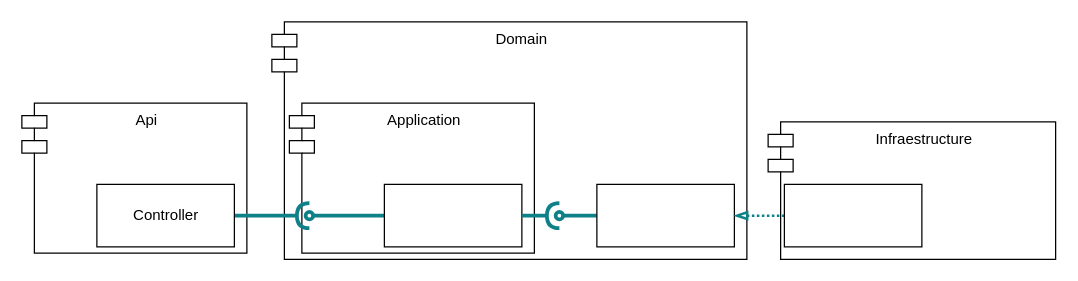
This 1078x281 diagram has some shape labels left out. Here are the shapes that lost their labels. From the top down, the centre of each, then its label:
pixel 452 215: Handler
pixel 665 215: «interface» Service
pixel 852 215: Concrete Service
